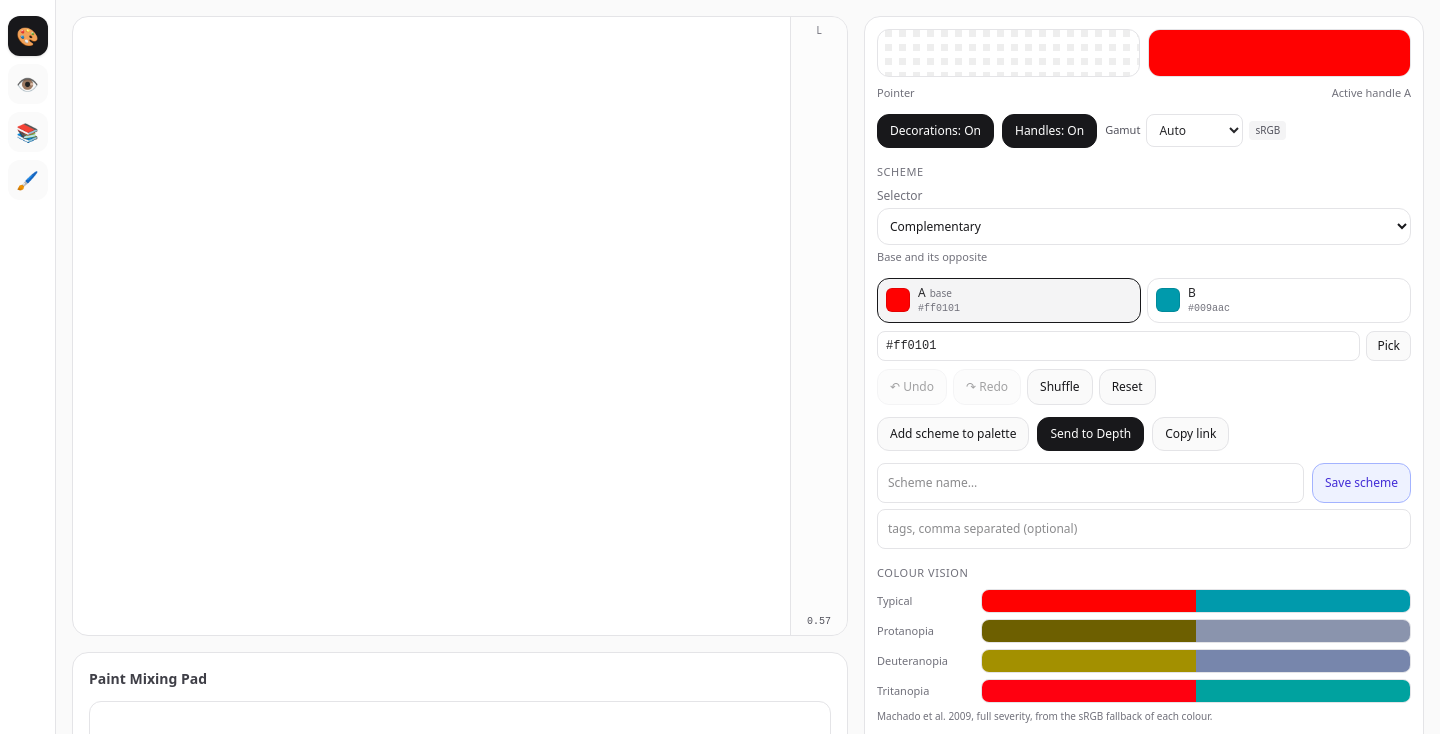
forcing Display P3 without P3 canvases › does not crash: the wheel keeps working, the badge says simulated, swatches use the sRGB fallback
Select "Display P3" in the dropdown named "colour gamut" at [1195, 130], box [1146,114,1243,147]
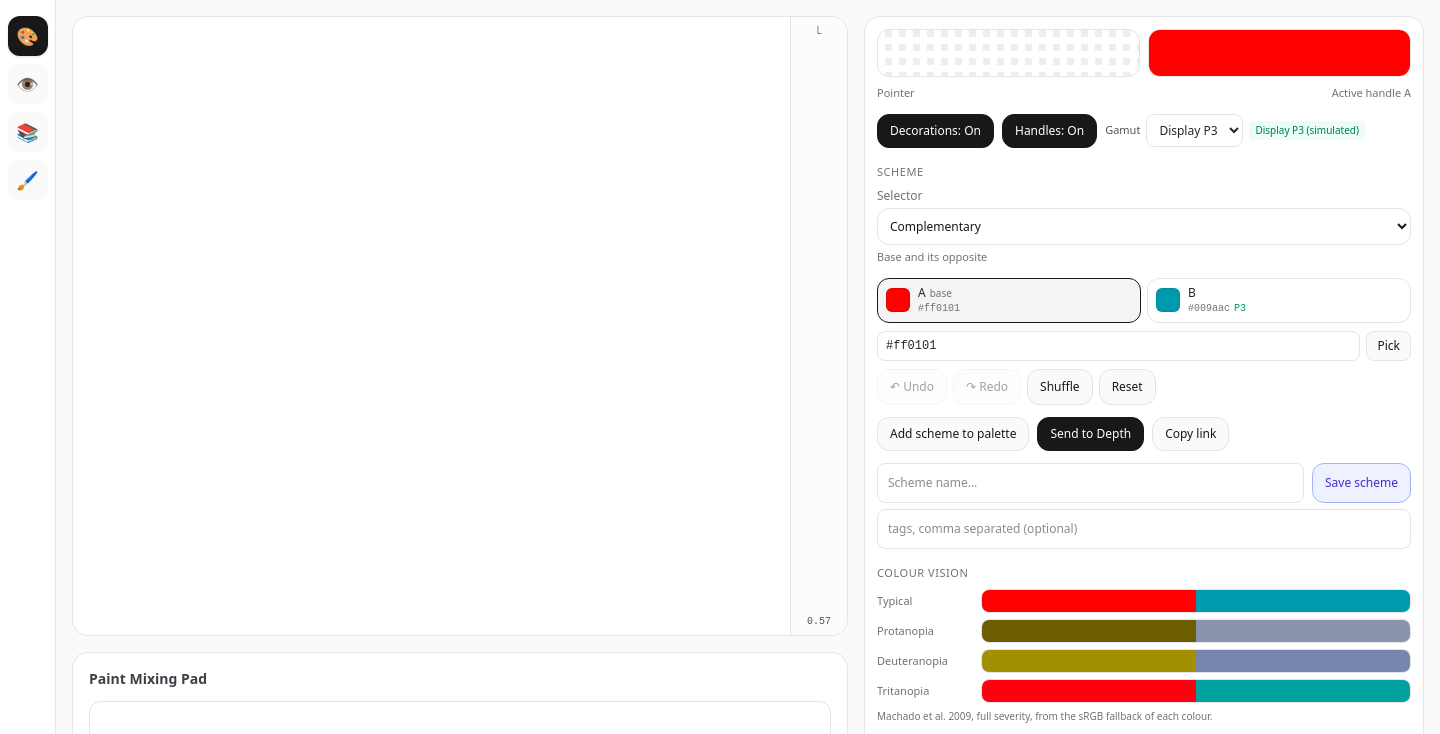
Result: the text "Display P3 (simulated)" is shown at [1249,121,1365,140]
Result: the 2nd option shows "P3" at [1147,278,1411,322]
// interaction still works
Select "Triadic" in the dropdown labelled "Selector" at [1144, 226], box [877,208,1411,245]
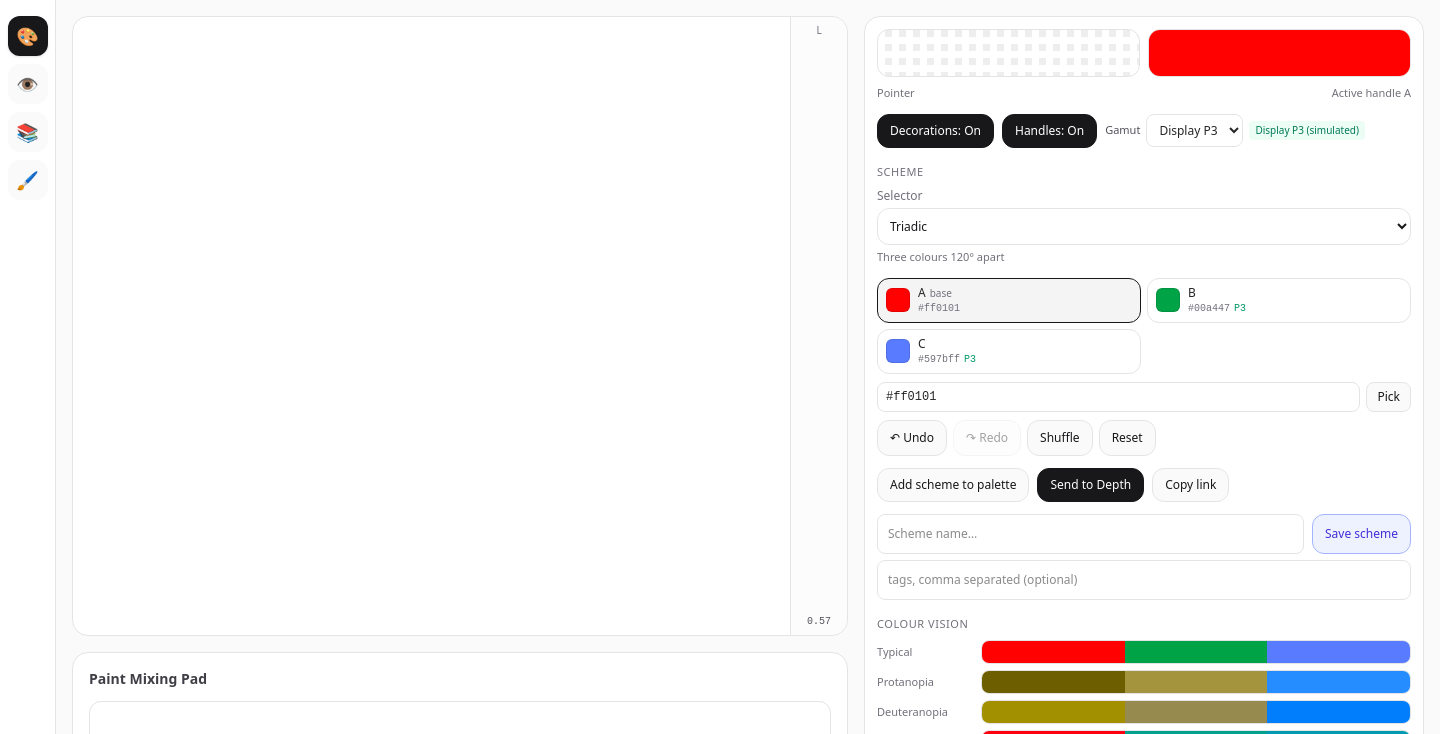
Result: the number of options is 3 at [877,278,1141,322]; [1147,278,1411,322]; [877,328,1141,374]
// the depth page too
Click the button named "depth (chromostereopsis)" at [28, 84], box [8,64,48,104]
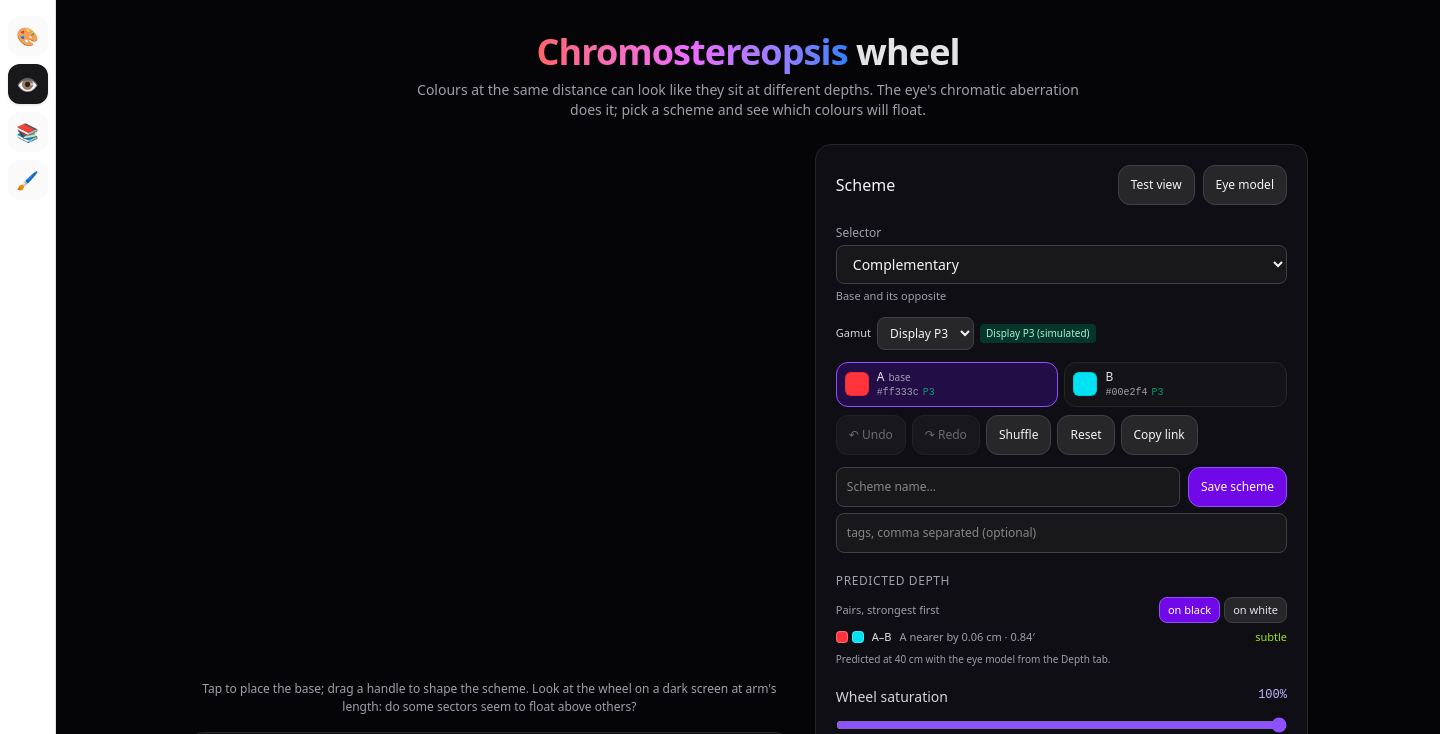
Result: the heading "Chromostereopsis wheel" is shown at [536,27,960,76]
